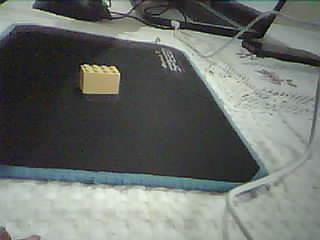lego: (77, 62, 121, 95)
